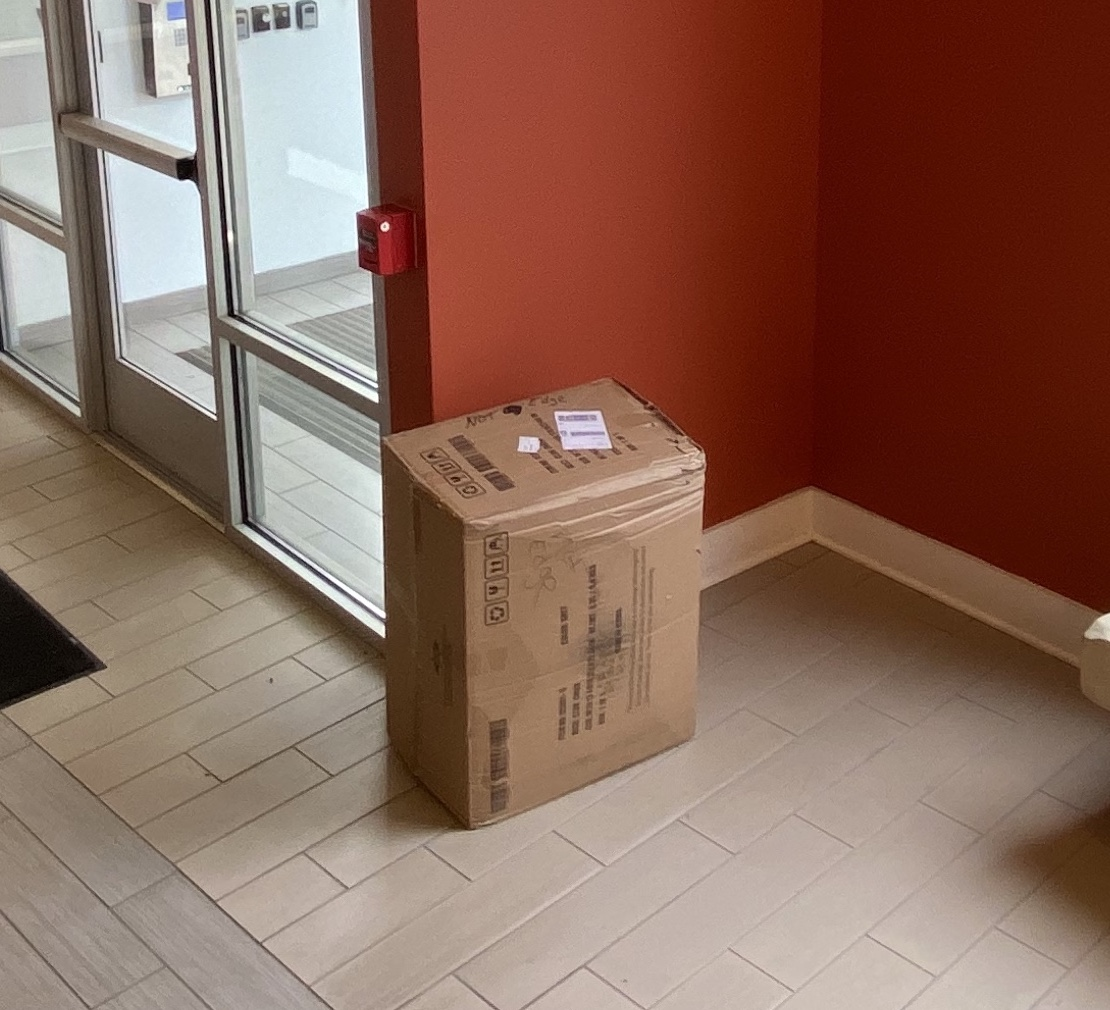package: (381, 376, 705, 829)
